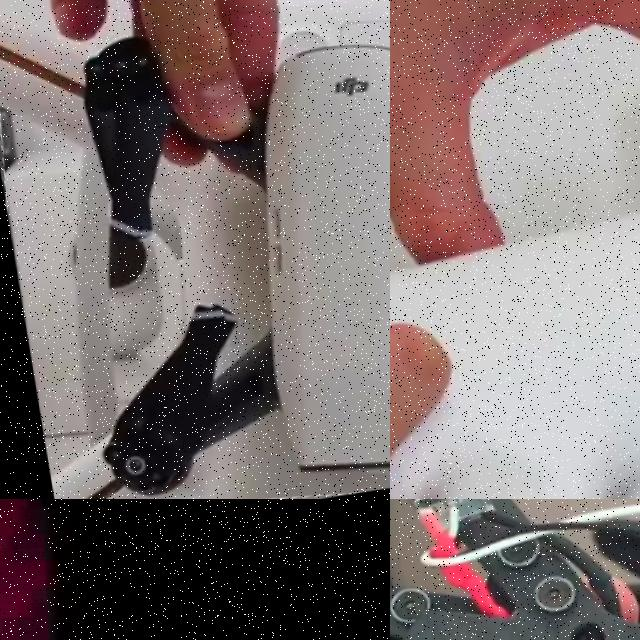drone: (0, 0, 390, 499), (390, 0, 640, 499), (390, 499, 640, 640)
